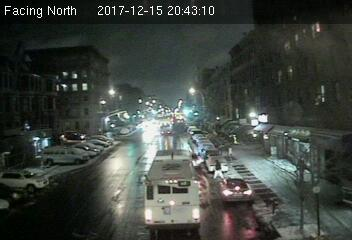bus: (142, 149, 202, 228)
car: (221, 179, 252, 201), (206, 156, 227, 172)
